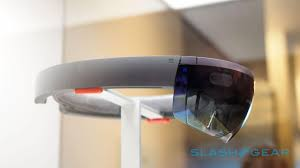hololens: (34, 54, 255, 148)
